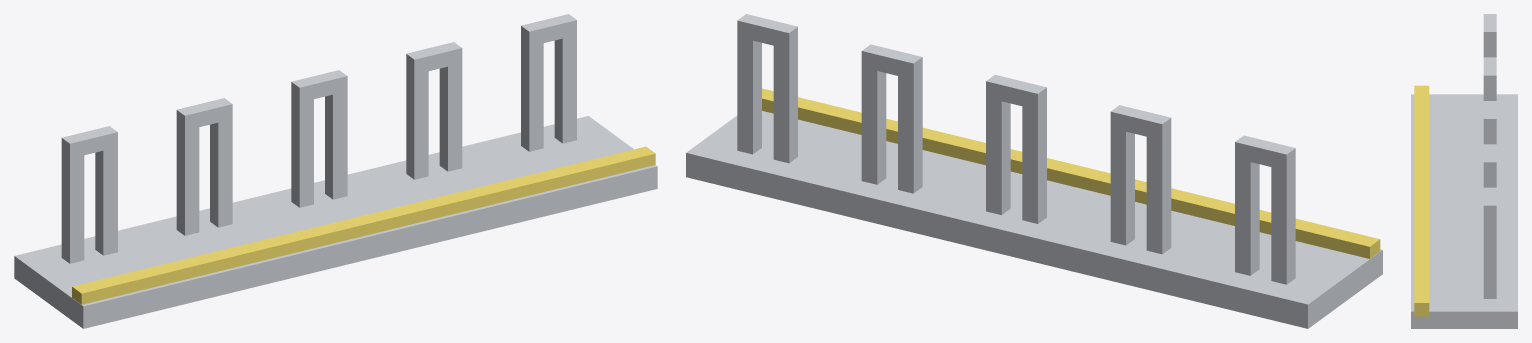
The model's file is rack-godot.glb.
3 views of the same model, side by side, from view 1: azimuth 30°, elevation 25°; view 2: azimuth 150°, elevation 25°; view 3: azimuth 270°, elevation 25° (orthographic). The views are drawn at different scales.
Parts seen in each view (by area): view 1: bike-rack-steel, bike-rack-canary; view 2: bike-rack-steel, bike-rack-canary; view 3: bike-rack-steel, bike-rack-canary.
Part boxes in pixels (x1,y1,x2,y2): bike-rack-steel: (14,14,657,328); bike-rack-canary: (72,146,655,304); bike-rack-steel: (686,14,1382,328); bike-rack-canary: (762,88,1380,258); bike-rack-steel: (1411,14,1517,328); bike-rack-canary: (1414,85,1429,316).
Size of the model in its own units: 2.4 by 0.5698 by 0.4998.
